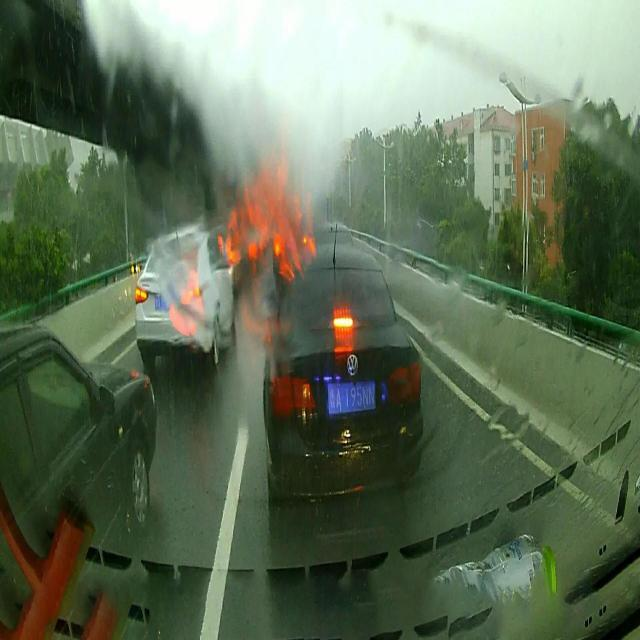car: (262, 242, 424, 509), (0, 322, 157, 557), (134, 225, 232, 377)
